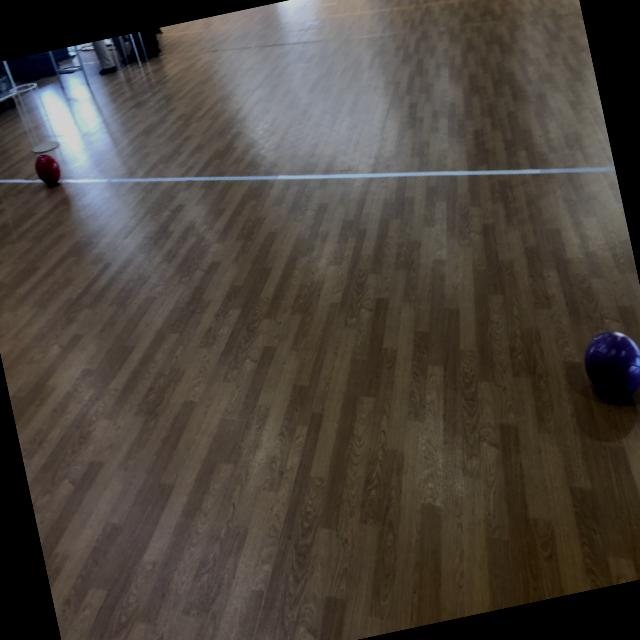purple_ball: (580, 323, 640, 405)
red_ball: (33, 150, 62, 187)
